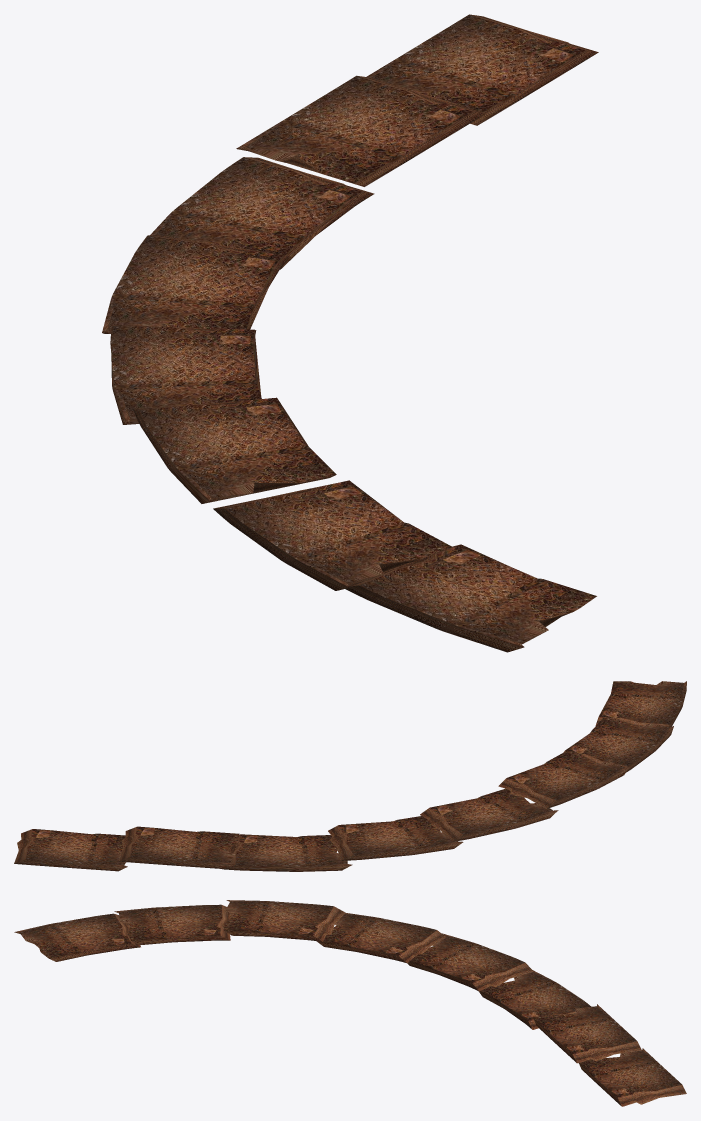
The model's file is HellWallPlateMany.fbx.
The picture shows the model from 3 angles, top to bottom: view 1: azimuth 30°, elevation 25°; view 2: azimuth 150°, elevation 25°; view 3: azimuth 270°, elevation 25°; orthographic projection. The views are drawn at different scales.
Parts seen in each view (by area): view 1: pCube23, pCube17, pCube18, pCube19, pCube21, pCube22, pCube24, pCube20; view 2: pCube23, pCube21, pCube19, pCube20, pCube22, pCube24, pCube18, pCube17; view 3: pCube19, pCube20, pCube21, pCube18, pCube23, pCube24, pCube17, pCube22.
Boxes of the visible parts, <box> form: pCube23: <box>236,75,485,186</box>; pCube17: <box>345,544,596,652</box>; pCube18: <box>213,480,451,590</box>; pCube19: <box>133,397,336,503</box>; pCube21: <box>102,234,290,333</box>; pCube22: <box>150,157,374,269</box>; pCube24: <box>366,14,598,125</box>; pCube20: <box>110,325,261,424</box>; pCube23: <box>118,826,239,868</box>; pCube21: <box>328,816,463,860</box>; pCube19: <box>498,750,629,808</box>; pCube20: <box>420,788,558,841</box>; pCube22: <box>222,834,352,871</box>; pCube24: <box>14,829,127,871</box>; pCube18: <box>564,717,673,772</box>; pCube17: <box>595,681,686,727</box>; pCube19: <box>223,900,345,941</box>; pCube20: <box>316,913,446,963</box>; pCube21: <box>407,933,533,991</box>; pCube18: <box>114,904,232,945</box>; pCube23: <box>533,1004,641,1063</box>; pCube24: <box>579,1048,686,1106</box>; pCube17: <box>14,913,140,961</box>; pCube22: <box>479,970,591,1029</box>.
Bounding box in the file's own units: 55.29 × 2.71 × 82.23.
Materials: 1 (1 with a texture image).
